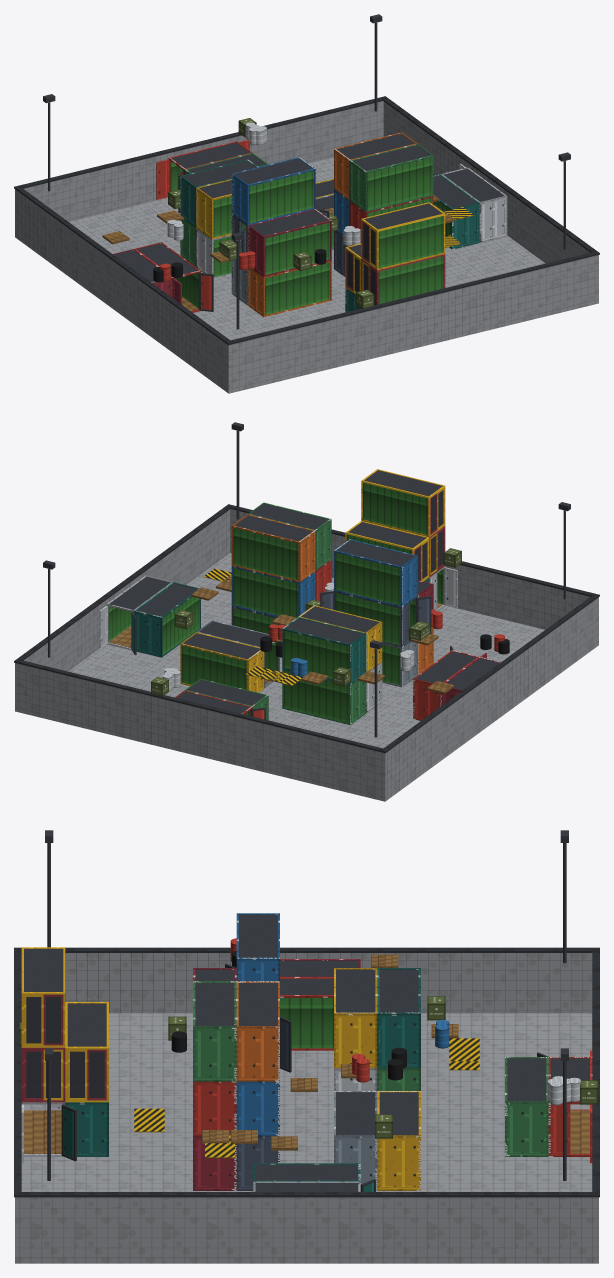
The model's file is environment_enhanced.glb.
3 views of the same model, one above another, from view 1: azimuth 30°, elevation 25°; view 2: azimuth 150°, elevation 25°; view 3: azimuth 270°, elevation 25° (orthographic). The views are drawn at different scales.
Parts seen in each view (by area): view 1: Body1036, Body1030, Body1037, Body812, walls (1) (1), Body838, walls (1) (7), walls (1), walls (1) (8), BH_FloodlightMasts, BH_Crates, BH_Barrels_#b9bec4 (+21 smaller); view 2: Body1036, Body1030, Body1037, Body840, walls (13) (1), Body811, walls (13) (2), walls (13) (5), walls (13) (4), walls (13) (6), BH_Crates, BH_FloodlightMasts (+33 smaller); view 3: Body1036, Body1030, Body1037, Body1024, BH_Pallets, BH_FloodlightMasts, BH_HazardPads, BH_Crates, Body995, walls (9), Body826, walls (9) (6) (+50 smaller).
Part boxes in pixels (left/top/right/bottom): Body1036: left=15, top=101, right=598, bottom=389; Body1030: left=15, top=157, right=598, bottom=393; Body1037: left=14, top=96, right=599, bottom=345; Body812: left=378, top=216, right=443, bottom=268; walls (1) (1): left=367, top=157, right=432, bottom=209; Body838: left=249, top=171, right=313, bottom=223; walls (1) (7): left=265, top=262, right=329, bottom=315; walls (1): left=378, top=256, right=443, bottom=304; walls (1) (8): left=265, top=222, right=329, bottom=274; BH_FloodlightMasts: left=43, top=14, right=570, bottom=329; BH_Crates: left=168, top=118, right=374, bottom=308; BH_Barrels_#b9bec4: left=167, top=122, right=360, bottom=245; Body1036: left=15, top=509, right=598, bottom=797; Body1030: left=15, top=553, right=598, bottom=801; Body1037: left=14, top=504, right=599, bottom=753; Body840: left=335, top=552, right=400, bottom=604; walls (13) (1): left=233, top=527, right=298, bottom=580; Body811: left=363, top=482, right=427, bottom=535; walls (13) (2): left=233, top=568, right=298, bottom=617; walls (13) (5): left=284, top=670, right=348, bottom=723; walls (13) (4): left=181, top=645, right=246, bottom=689; walls (13) (6): left=284, top=630, right=348, bottom=679; BH_Crates: left=151, top=548, right=461, bottom=696; BH_FloodlightMasts: left=43, top=422, right=570, bottom=737; Body1036: left=15, top=953, right=598, bottom=1257; Body1030: left=15, top=1013, right=598, bottom=1263; Body1037: left=14, top=947, right=599, bottom=1197; Body1024: left=280, top=998, right=333, bottom=1048; BH_Pallets: left=202, top=954, right=458, bottom=1150; BH_FloodlightMasts: left=45, top=830, right=568, bottom=1180; BH_HazardPads: left=134, top=1038, right=479, bottom=1157; BH_Crates: left=19, top=996, right=598, bottom=1138; Body995: left=255, top=1164, right=358, bottom=1180; walls (9): left=67, top=1003, right=106, bottom=1046; Body826: left=507, top=1058, right=546, bottom=1101; walls (9) (6): left=379, top=969, right=418, bottom=1012.
Bounding box in the file's own units: 29.58 × 11.03 × 29.58.
Materials: 34 (33 with a texture image).
